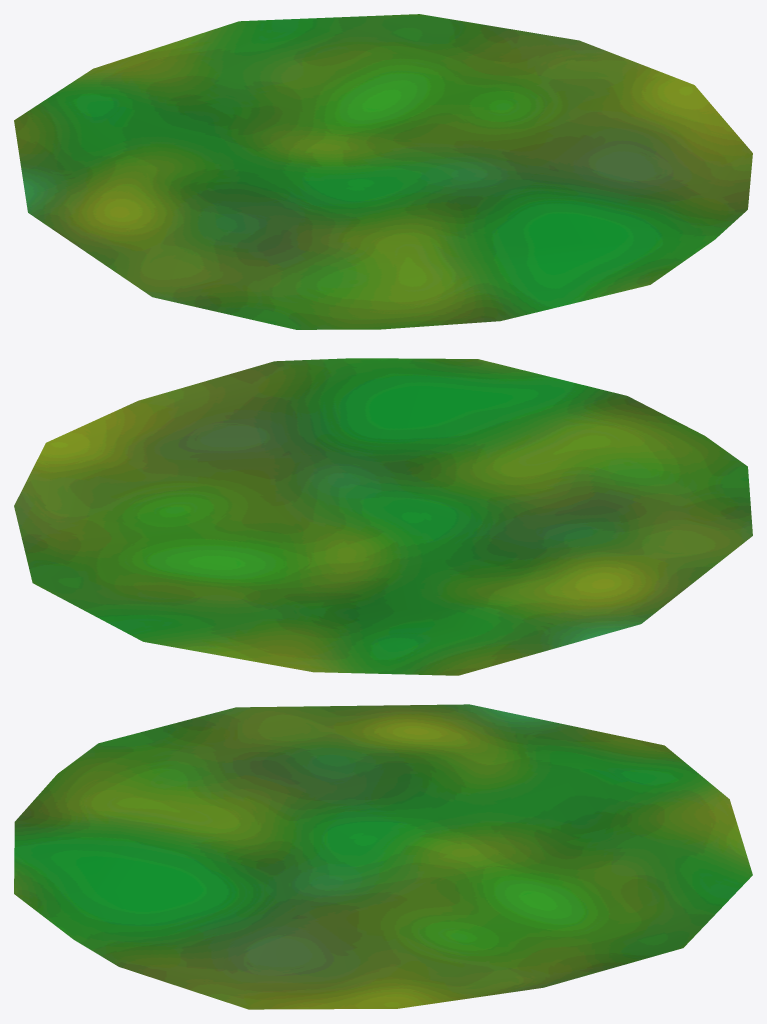
File: Soop.fbx
3 renders of one model, top to bottom at view 1: azimuth 30°, elevation 25°; view 2: azimuth 150°, elevation 25°; view 3: azimuth 270°, elevation 25°, orthographic.
Parts seen in each view (by area): view 1: Soop; view 2: Soop; view 3: Soop.
Part boxes in pixels (<box>): Soop: <box>14,14,752,329</box>; Soop: <box>14,358,752,675</box>; Soop: <box>14,704,752,1009</box>.
Bounding box in the file's own units: 60.49 × 2.07 × 61.96.
